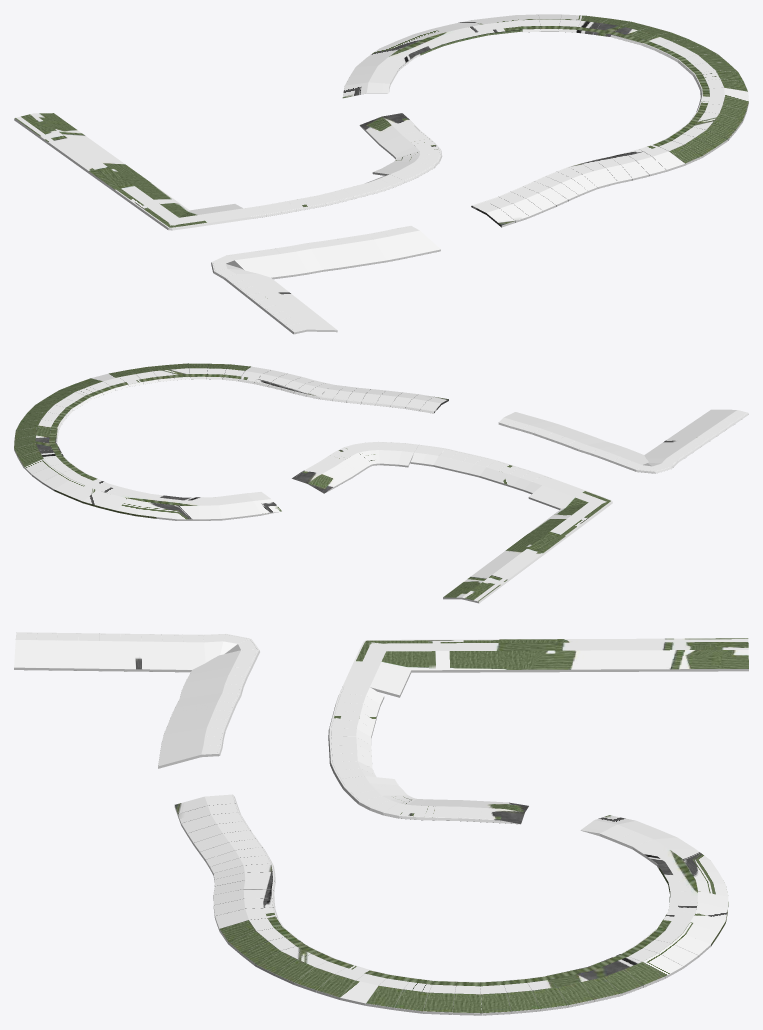
The model's file is SIDEWALK.glb.
3 views of the same model, one above another, from view 1: azimuth 30°, elevation 25°; view 2: azimuth 150°, elevation 25°; view 3: azimuth 270°, elevation 25° (orthographic). The views are drawn at different scales.
Visible parts, largest first — view 1: sidewalk1; view 2: sidewalk1; view 3: sidewalk1.
Boxes of the visible parts, <box> form: sidewalk1: <box>14,14,748,334</box>; sidewalk1: <box>14,363,748,603</box>; sidewalk1: <box>14,632,748,1015</box>.
Bounding box in the file's own units: 91.01 × 1.34 × 75.34.
Materials: 13 (13 with a texture image).
